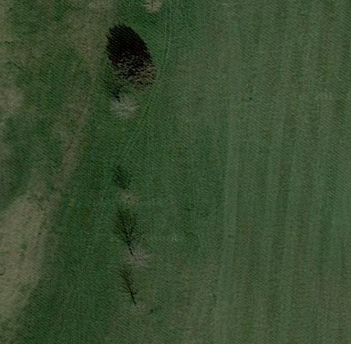tree: (111, 47, 162, 88), (102, 86, 145, 127), (119, 240, 164, 276), (113, 182, 143, 210), (123, 293, 154, 317)
